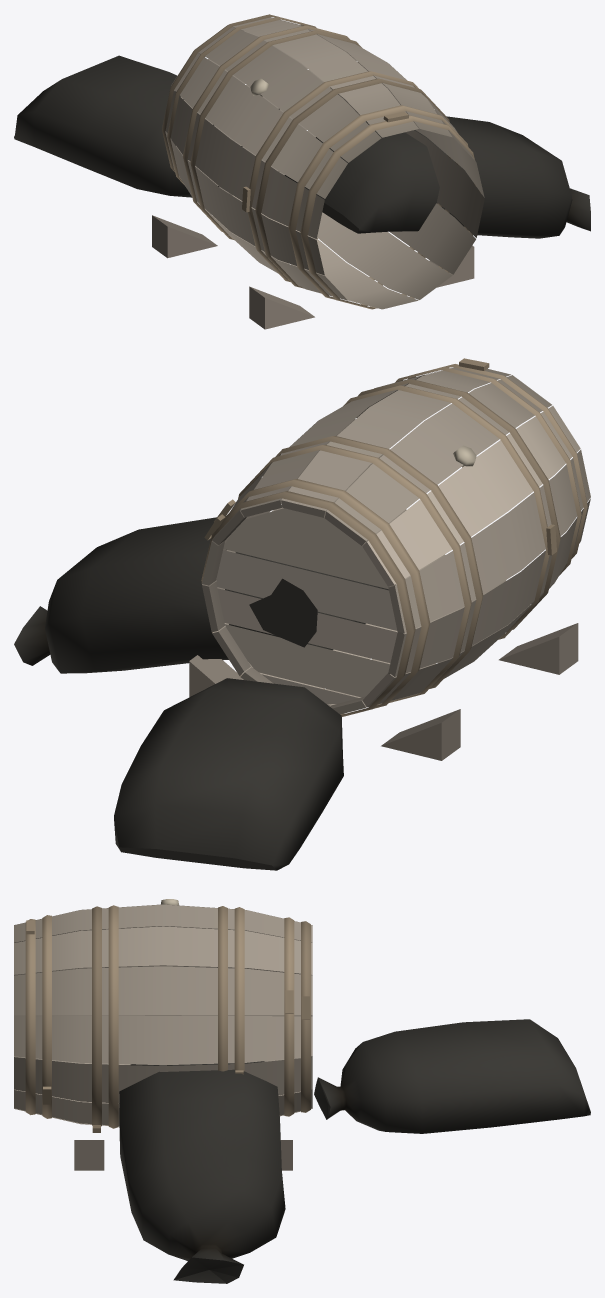
The model's file is prop_inn_cask_side.glb.
3 renders of one model, top to bottom at view 1: azimuth 30°, elevation 25°; view 2: azimuth 150°, elevation 25°; view 3: azimuth 270°, elevation 25°, orthographic. The views are drawn at different scales.
Visible parts, largest first — view 1: InnCaskSideSoft, InnCaskSide; view 2: InnCaskSideSoft, InnCaskSide; view 3: InnCaskSideSoft, InnCaskSide.
Part boxes in pixels (bbox=[...]): InnCaskSideSoft: bbox=[14, 14, 590, 309]; InnCaskSide: bbox=[152, 17, 474, 329]; InnCaskSideSoft: bbox=[14, 364, 590, 870]; InnCaskSide: bbox=[189, 358, 578, 760]; InnCaskSideSoft: bbox=[14, 899, 590, 1283]; InnCaskSide: bbox=[26, 920, 312, 1170].
Bounding box in the file's own units: 1.16 × 0.7081 × 1.53.
